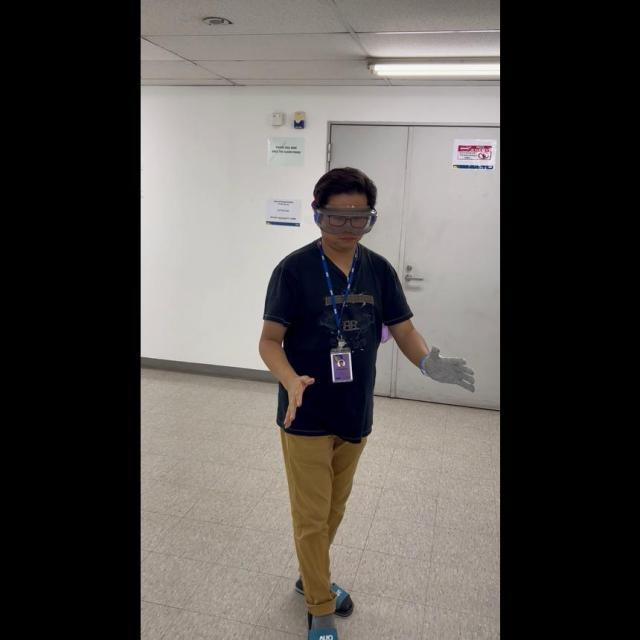bare_hand: (278, 366, 315, 428)
gloved_hand: (417, 340, 476, 391)
